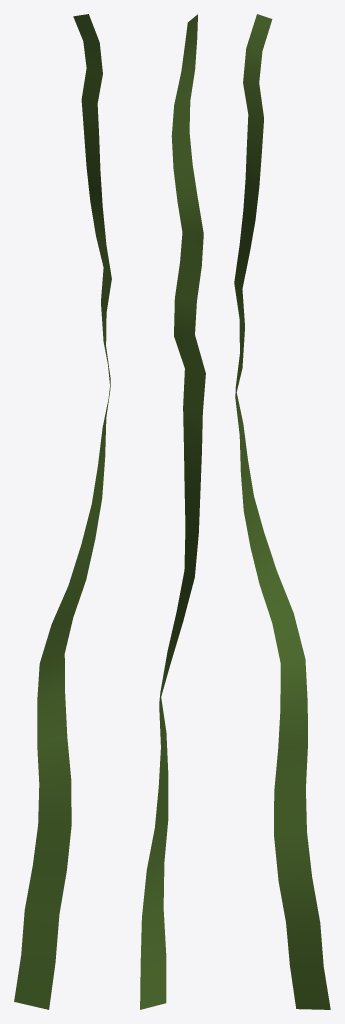
The model's file is plant_swamp_kelp_long_solo_D.fbx.
The picture shows the model from 3 angles, left to right: view 1: azimuth 90°, elevation 25°; view 2: azimuth 150°, elevation 25°; view 3: azimuth 270°, elevation 25°; orthographic projection. The views are drawn at different scales.
Parts seen in each view (by area): view 1: plant_swamp_kelp_long_solo_D; view 2: plant_swamp_kelp_long_solo_D; view 3: plant_swamp_kelp_long_solo_D.
Boxes of the visible parts, <box> form: plant_swamp_kelp_long_solo_D: <box>14,14,111,1009</box>; plant_swamp_kelp_long_solo_D: <box>140,14,205,1009</box>; plant_swamp_kelp_long_solo_D: <box>234,14,330,1009</box>.
Bounding box in the file's own units: 13.34 × 328 × 29.
